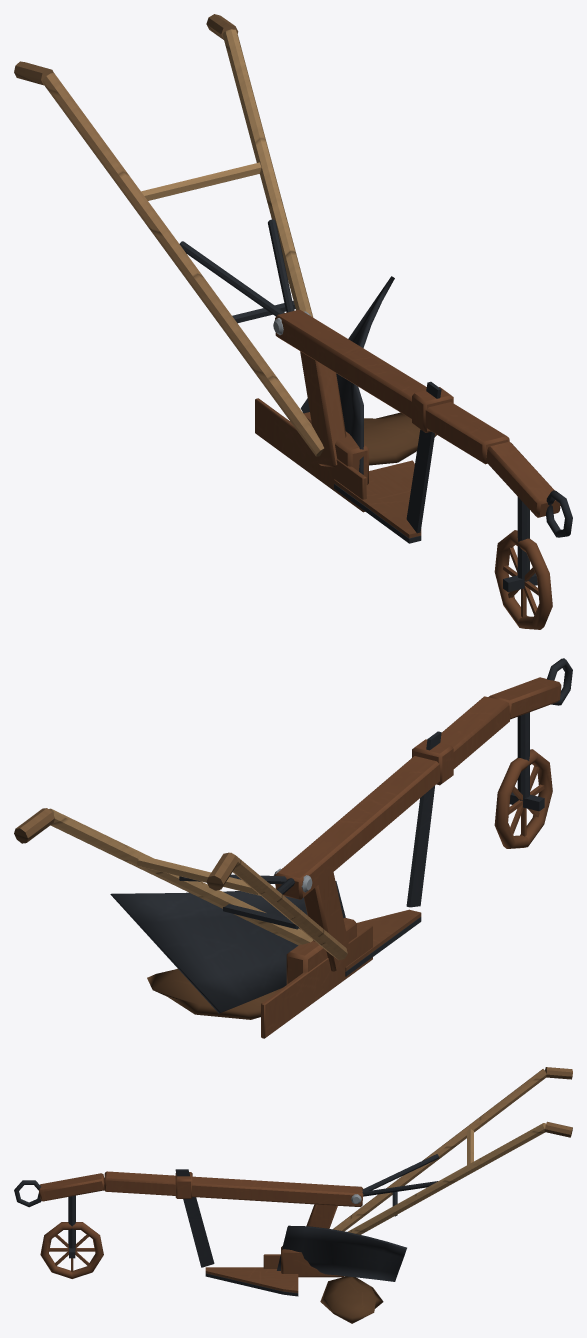
The model's file is plough_old.glb.
3 views of the same model, one above another, from view 1: azimuth 30°, elevation 25°; view 2: azimuth 150°, elevation 25°; view 3: azimuth 270°, elevation 25° (orthographic). The views are drawn at different scales.
Parts seen in each view (by area): view 1: plough_old; view 2: plough_old; view 3: plough_old.
Boxes of the visible parts, x1,y1,x2,y2 form: plough_old: (14, 14, 572, 629); plough_old: (14, 658, 572, 1038); plough_old: (14, 1067, 572, 1323).
Bounding box in the file's own units: 0.839 × 0.9457 × 2.6.
9 materials, 9 textured.
